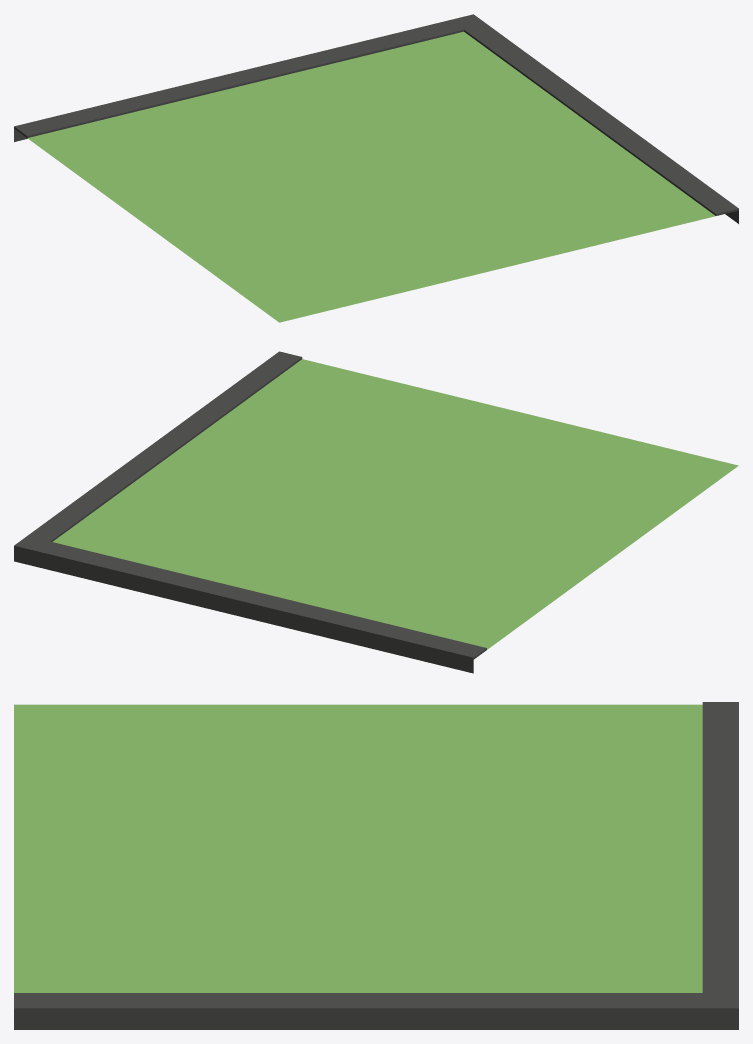
Rendered from M_Grass350x350_7.fbx.
3 views of the same model, one above another, from view 1: azimuth 30°, elevation 25°; view 2: azimuth 150°, elevation 25°; view 3: azimuth 270°, elevation 25° (orthographic). The views are drawn at different scales.
Parts seen in each view (by area): view 1: M_Grass350x350_7; view 2: M_Grass350x350_7; view 3: M_Grass350x350_7.
Part boxes in pixels (<box>): M_Grass350x350_7: <box>14,14,738,322</box>; M_Grass350x350_7: <box>14,351,738,673</box>; M_Grass350x350_7: <box>14,702,738,1029</box>.
Bounding box in the file's own units: 350 × 350 × 11.5.
